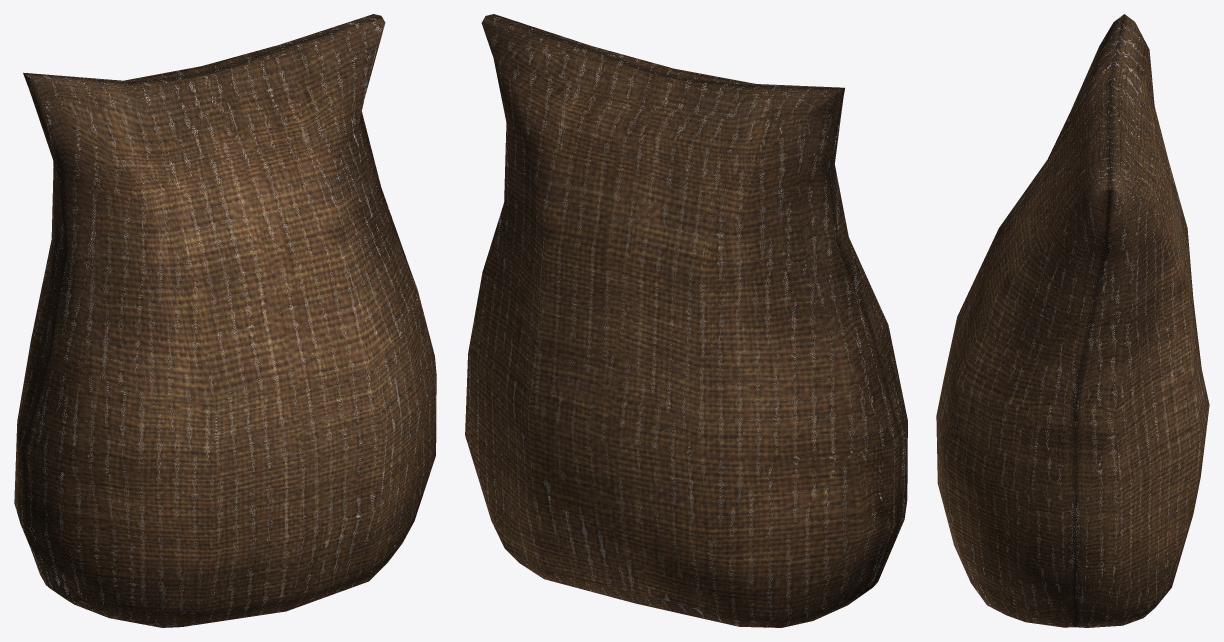
File: GrainSack01.fbx
The picture shows the model from 3 angles, left to right: view 1: azimuth 30°, elevation 25°; view 2: azimuth 150°, elevation 25°; view 3: azimuth 270°, elevation 25°; orthographic projection. The views are drawn at different scales.
Visible parts, largest first — view 1: Model; view 2: Model; view 3: Model.
Part boxes in pixels (bbox=[...]): Model: bbox=[14, 14, 436, 627]; Model: bbox=[465, 14, 907, 627]; Model: bbox=[936, 14, 1209, 627].
Size of the model in its own units: 26.21 by 32.41 by 16.81.
